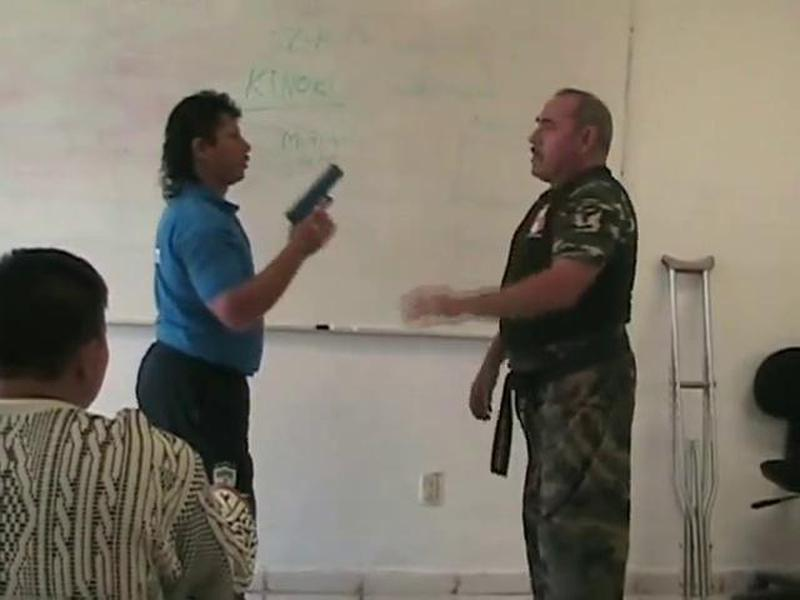Pistola: (284, 159, 347, 232)
